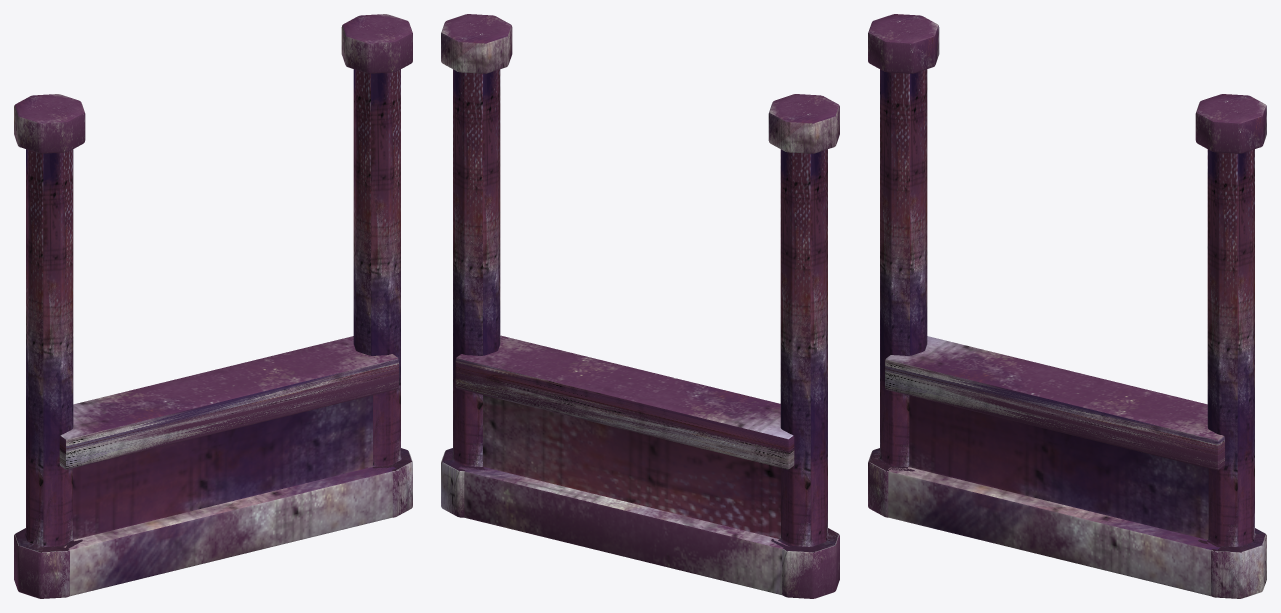
File: MANOR_WALL_2_1_002.obj
3 views of the same model, side by side, from view 1: azimuth 30°, elevation 25°; view 2: azimuth 150°, elevation 25°; view 3: azimuth 330°, elevation 25° (orthographic).
Visible parts, largest first — view 1: MANOR_WALL_2_1_002; view 2: MANOR_WALL_2_1_002; view 3: MANOR_WALL_2_1_002.
Part boxes in pixels (x1,y1,x2,y2): MANOR_WALL_2_1_002: [14, 14, 412, 598]; MANOR_WALL_2_1_002: [441, 14, 839, 598]; MANOR_WALL_2_1_002: [868, 14, 1266, 598].
Size of the model in its own units: 2.57 by 3 by 0.4135.
